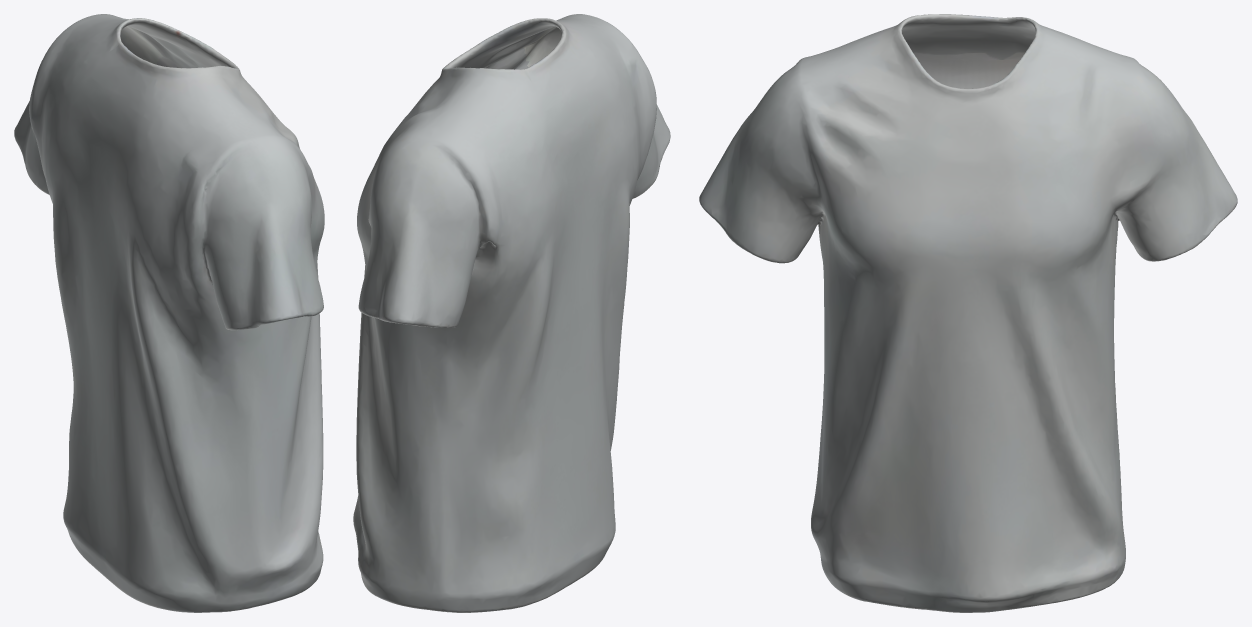
The model's file is asset.glb.
The picture shows the model from 3 angles, left to right: view 1: azimuth 30°, elevation 25°; view 2: azimuth 150°, elevation 25°; view 3: azimuth 270°, elevation 25°; orthographic projection.
Visible parts, largest first — view 1: tripo_node_cb6925bd-a8ec-41f8-adad-848f9390322a; view 2: tripo_node_cb6925bd-a8ec-41f8-adad-848f9390322a; view 3: tripo_node_cb6925bd-a8ec-41f8-adad-848f9390322a.
Boxes of the visible parts, x1=… form: tripo_node_cb6925bd-a8ec-41f8-adad-848f9390322a: x1=14, y1=14, x2=324, y2=612; tripo_node_cb6925bd-a8ec-41f8-adad-848f9390322a: x1=353, y1=14, x2=670, y2=612; tripo_node_cb6925bd-a8ec-41f8-adad-848f9390322a: x1=699, y1=14, x2=1237, y2=612.
Bounding box in the file's own units: 0.4142 × 0.948 × 0.8677.
1 material, 1 textured.
